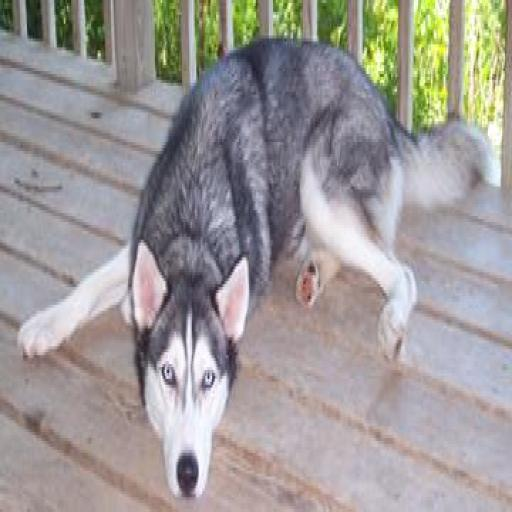dog_face: (134, 246, 256, 494)
